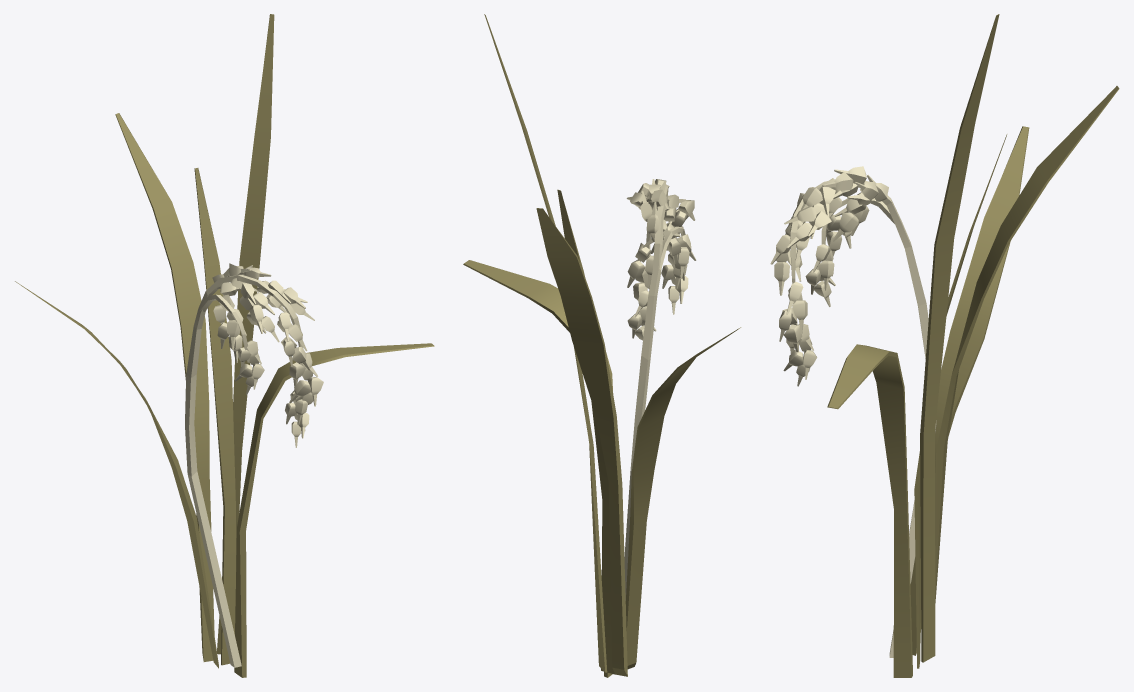
The model's file is rice_plant.glb.
3 views of the same model, side by side, from view 1: azimuth 30°, elevation 25°; view 2: azimuth 150°, elevation 25°; view 3: azimuth 270°, elevation 25° (orthographic). The views are drawn at different scales.
Visible parts, largest first — view 1: Object_7, Object_9; view 2: Object_7, Object_9; view 3: Object_7, Object_9.
Boxes of the visible parts, left/top/right/bottom form: Object_7: left=15, top=14, right=434, bottom=677; Object_9: left=185, top=263, right=323, bottom=667; Object_7: left=463, top=14, right=741, bottom=677; Object_9: left=624, top=179, right=696, bottom=600; Object_7: left=827, top=14, right=1119, bottom=677; Object_9: left=770, top=166, right=936, bottom=657.
Bounding box in the file's own units: 1.39 × 2.44 × 1.1.
